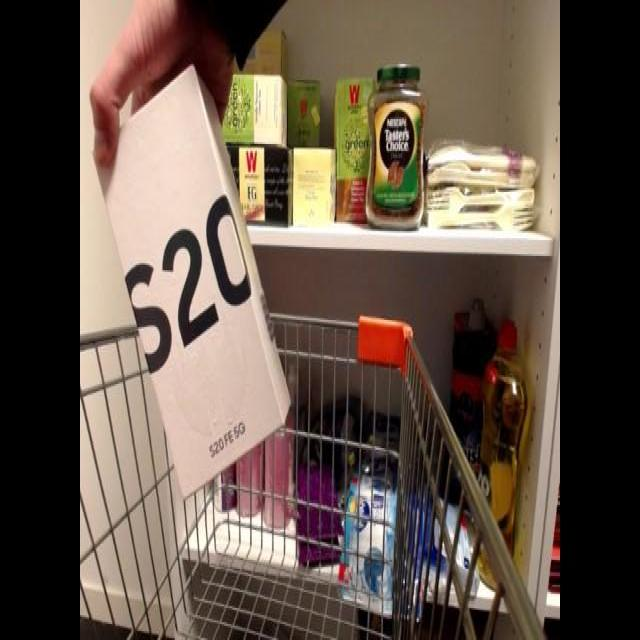Samsung S20: (84, 66, 294, 508)
